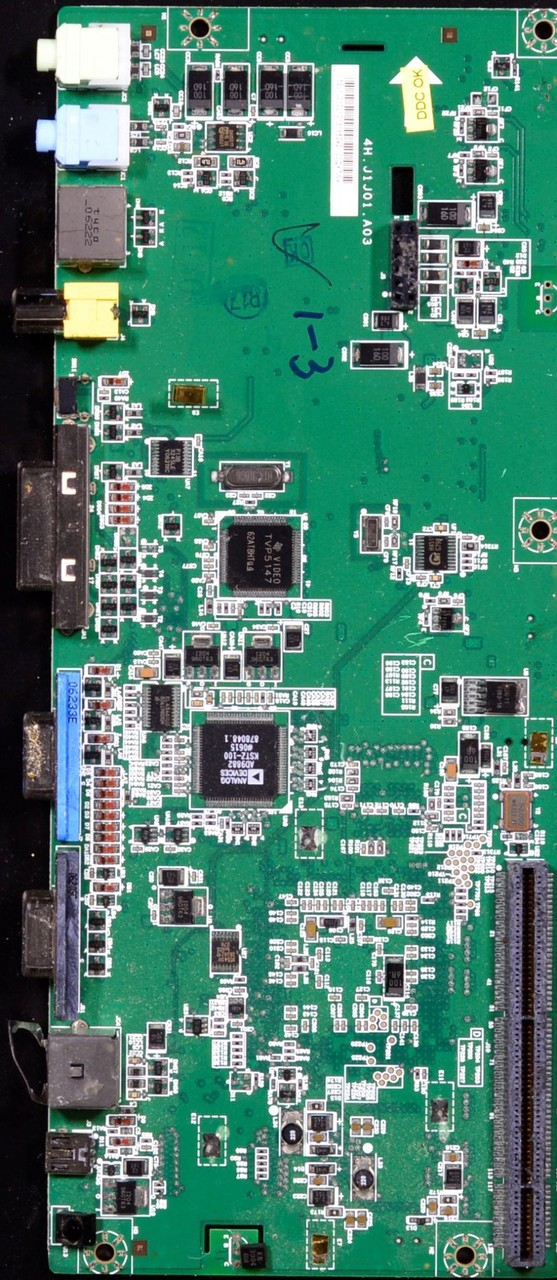Capacitor: (223, 461, 284, 489), (457, 732, 478, 774), (244, 647, 281, 668), (440, 677, 459, 705), (284, 623, 302, 651), (136, 666, 159, 679), (444, 757, 456, 781), (480, 743, 491, 768), (309, 1133, 331, 1144), (174, 142, 191, 152), (207, 621, 225, 630), (427, 1196, 436, 1214), (128, 1088, 142, 1099), (352, 1118, 361, 1134), (362, 1118, 371, 1134), (357, 1212, 366, 1228), (346, 1211, 354, 1229), (139, 44, 150, 57), (141, 62, 151, 76), (439, 1207, 456, 1215), (310, 1176, 326, 1184), (478, 223, 490, 233), (473, 329, 486, 338), (428, 382, 441, 391), (444, 1153, 462, 1159), (146, 650, 161, 657), (301, 1019, 308, 1033), (205, 691, 213, 703), (191, 699, 204, 706), (133, 845, 146, 852), (128, 1057, 141, 1064), (433, 524, 446, 531), (428, 574, 441, 581), (253, 692, 261, 703), (226, 691, 233, 703), (315, 899, 321, 913), (285, 917, 297, 924), (361, 936, 373, 943), (414, 574, 426, 581), (443, 784, 453, 792), (284, 1026, 297, 1032), (428, 368, 441, 374), (196, 434, 202, 447), (266, 692, 273, 703), (284, 959, 291, 970), (173, 103, 178, 118), (218, 817, 224, 829), (301, 899, 307, 911), (332, 899, 338, 911), (307, 899, 313, 911), (356, 995, 368, 1001), (383, 516, 389, 528), (383, 536, 389, 548), (404, 557, 410, 569), (471, 109, 485, 114), (154, 139, 168, 144), (393, 808, 404, 814), (165, 846, 176, 852), (285, 900, 296, 906), (376, 970, 382, 981), (363, 1020, 369, 1031), (334, 1020, 340, 1031), (221, 691, 226, 703), (174, 738, 184, 744), (472, 801, 484, 806), (376, 808, 388, 813), (501, 834, 513, 839), (323, 899, 328, 911), (399, 899, 404, 911), (338, 899, 343, 911), (376, 944, 382, 954), (405, 947, 417, 952), (406, 953, 418, 958), (234, 988, 246, 993), (284, 1007, 296, 1012), (284, 1013, 296, 1018), (411, 1019, 416, 1031), (341, 1019, 346, 1031), (356, 1019, 361, 1031), (486, 153, 498, 158), (523, 773, 534, 778), (174, 776, 185, 781), (174, 789, 185, 794), (362, 809, 373, 814), (443, 811, 454, 816), (361, 843, 366, 854), (406, 900, 417, 905), (374, 900, 379, 911), (285, 911, 296, 916), (358, 920, 363, 931), (317, 948, 322, 959), (406, 971, 417, 976), (317, 976, 322, 987), (393, 1020, 398, 1031), (245, 693, 251, 702), (238, 691, 242, 704), (381, 889, 394, 893), (403, 907, 416, 911), (268, 626, 278, 631), (348, 786, 358, 791), (474, 789, 484, 794), (426, 825, 436, 830), (368, 901, 373, 911), (379, 901, 384, 911), (286, 941, 296, 946), (309, 959, 314, 969), (156, 124, 166, 129), (461, 534, 471, 539), (341, 804, 353, 808), (351, 900, 355, 912), (361, 900, 365, 912), (406, 978, 418, 982), (486, 112, 498, 116), (174, 756, 183, 761), (348, 762, 359, 766), (473, 782, 484, 786), (523, 784, 534, 788), (473, 795, 484, 799), (393, 901, 397, 912), (335, 938, 346, 942), (284, 975, 295, 979), (285, 982, 296, 986), (402, 1021, 406, 1032), (174, 751, 184, 755), (502, 762, 506, 772), (174, 783, 184, 787), (443, 791, 453, 795), (473, 814, 483, 818), (286, 947, 296, 951), (329, 995, 339, 999), (99, 390, 109, 394), (148, 661, 159, 664), (405, 1006, 416, 1009), (443, 817, 453, 820), (214, 1031, 224, 1034), (451, 357, 454, 367), (438, 798, 441, 807), (474, 808, 483, 811)
Connector: (493, 857, 556, 1258), (14, 425, 87, 630), (19, 848, 78, 1021), (23, 671, 79, 842), (16, 1028, 122, 1107), (40, 24, 133, 95), (37, 104, 130, 172), (9, 285, 119, 339), (56, 186, 127, 268), (44, 1130, 92, 1175)
IC: (192, 713, 288, 807), (219, 517, 301, 595), (463, 677, 528, 716), (144, 683, 181, 730), (103, 1178, 149, 1214), (414, 533, 456, 571), (150, 439, 193, 476), (211, 931, 240, 973), (206, 124, 246, 149), (184, 1017, 208, 1035), (133, 826, 158, 841), (165, 827, 188, 842), (229, 997, 244, 1019), (278, 1067, 296, 1080), (509, 842, 528, 854), (101, 1163, 120, 1175)
Resistor: (389, 535, 399, 548), (326, 1208, 342, 1216), (346, 768, 360, 777), (514, 833, 528, 841), (391, 515, 399, 529), (441, 718, 455, 725), (426, 812, 438, 820), (443, 709, 456, 716), (345, 778, 358, 785), (376, 841, 383, 854), (368, 841, 374, 856), (340, 795, 352, 802), (472, 151, 486, 157), (124, 684, 135, 691), (428, 799, 434, 811), (408, 808, 420, 814), (191, 814, 203, 820), (231, 1033, 243, 1039), (284, 1055, 296, 1061), (269, 1055, 281, 1061), (283, 1048, 294, 1054), (453, 371, 464, 377), (298, 1078, 303, 1091), (259, 691, 264, 703), (191, 821, 203, 826), (444, 830, 449, 842), (231, 1047, 243, 1052), (271, 1079, 276, 1091), (256, 1154, 268, 1159), (484, 371, 496, 376), (125, 702, 136, 707), (125, 709, 136, 714), (125, 724, 136, 729), (161, 769, 172, 774), (443, 804, 454, 809), (205, 814, 216, 819), (456, 829, 461, 840), (450, 830, 455, 841), (232, 1041, 243, 1046), (284, 1042, 295, 1047), (256, 1149, 267, 1154), (256, 1161, 267, 1166), (99, 396, 110, 401), (126, 693, 136, 698), (473, 819, 483, 824), (205, 821, 215, 826), (214, 1017, 224, 1022), (256, 1168, 266, 1173), (486, 377, 496, 382), (231, 1055, 243, 1059), (474, 826, 483, 831), (125, 717, 136, 721), (161, 744, 172, 748), (162, 757, 173, 761), (161, 776, 172, 780), (257, 1174, 268, 1178), (163, 738, 171, 743), (164, 750, 174, 754), (254, 1073, 258, 1083), (444, 798, 453, 802), (214, 1025, 224, 1028), (466, 374, 476, 377), (160, 764, 169, 767), (233, 1062, 242, 1065)
Transistor/Diode: (431, 606, 463, 632), (466, 159, 498, 183), (466, 118, 497, 141), (134, 228, 156, 247), (278, 1084, 297, 1104), (84, 677, 102, 697), (482, 272, 500, 292), (453, 277, 474, 294), (131, 304, 148, 325), (85, 744, 102, 763), (197, 169, 216, 186), (235, 171, 254, 188), (154, 99, 170, 119), (86, 710, 101, 731), (136, 209, 156, 224), (493, 62, 510, 71)
